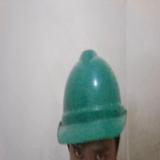Helmet: (57, 48, 127, 143)
